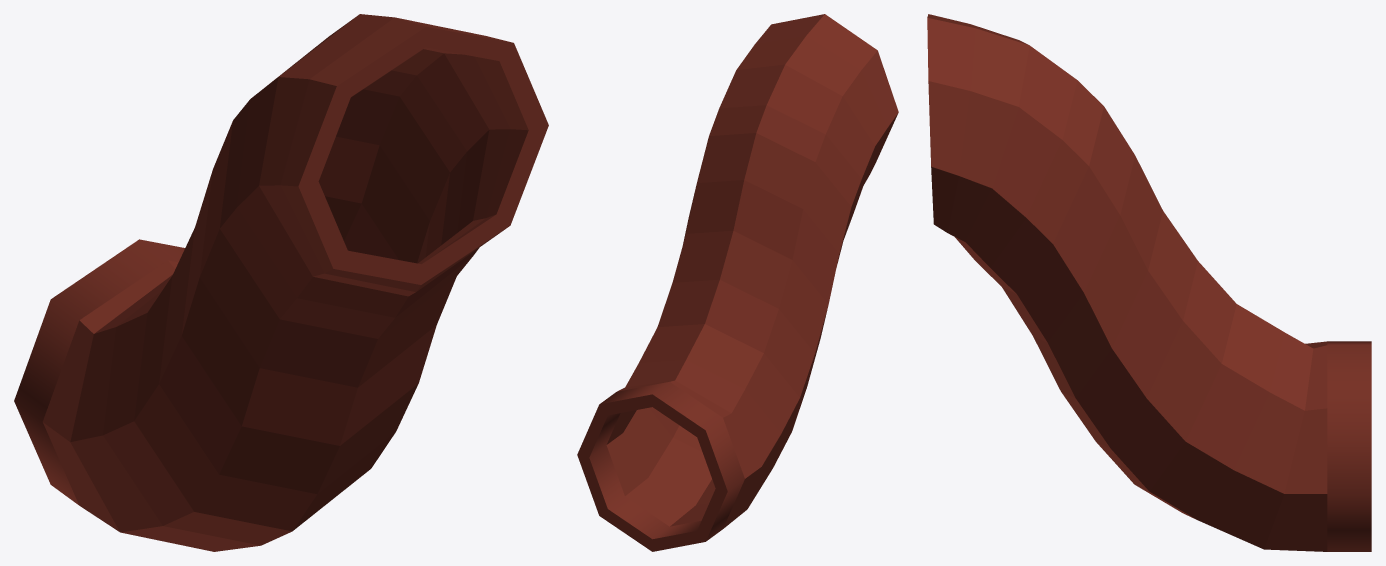
The model's file is BloodVessel_CurveLong.fbx.
3 renders of one model, left to right at view 1: azimuth 30°, elevation 25°; view 2: azimuth 150°, elevation 25°; view 3: azimuth 270°, elevation 25°, orthographic. The views are drawn at different scales.
Visible parts, largest first — view 1: CurveLong; view 2: CurveLong; view 3: CurveLong.
Part boxes in pixels (bbox=[...]): CurveLong: bbox=[14, 14, 548, 551]; CurveLong: bbox=[577, 14, 898, 551]; CurveLong: bbox=[927, 14, 1371, 551].
Bounding box in the file's own units: 151 × 394 × 300.
